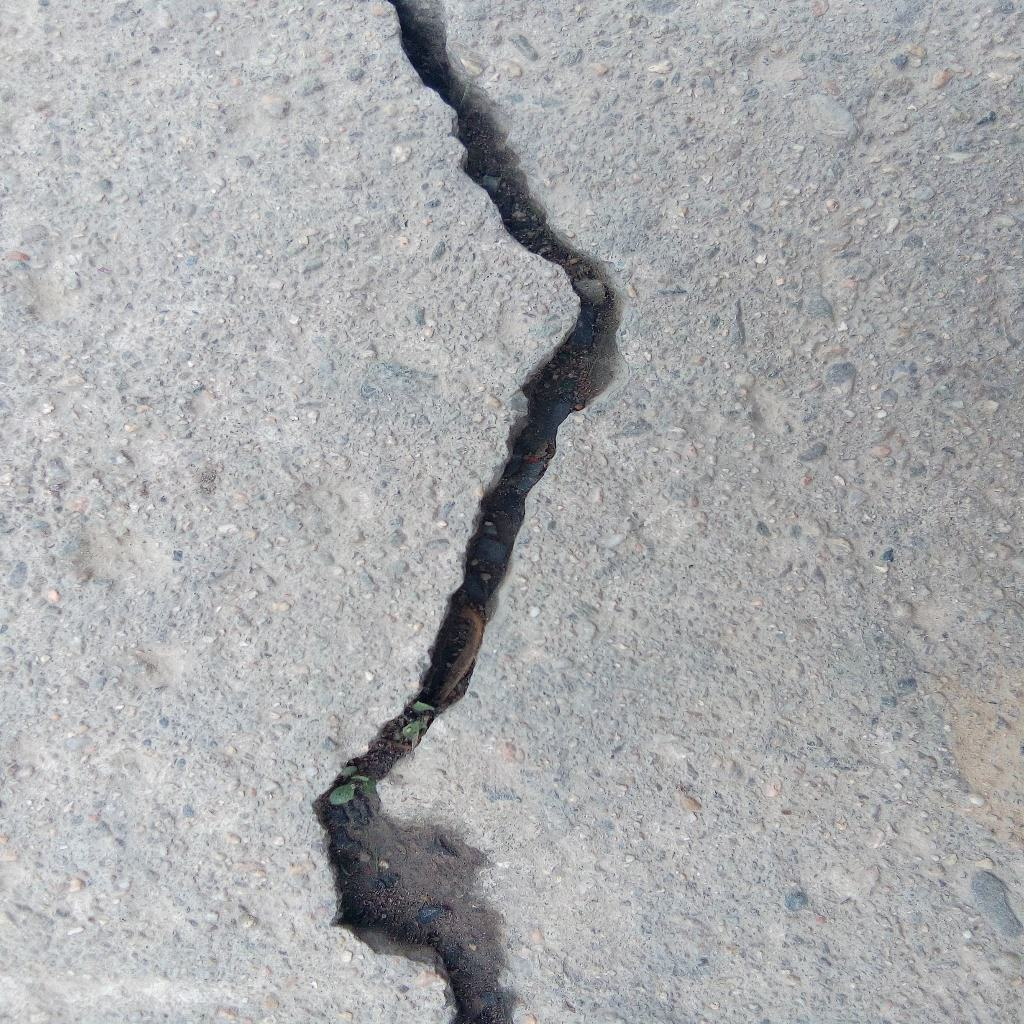Crack: (310, 1, 624, 1024)
